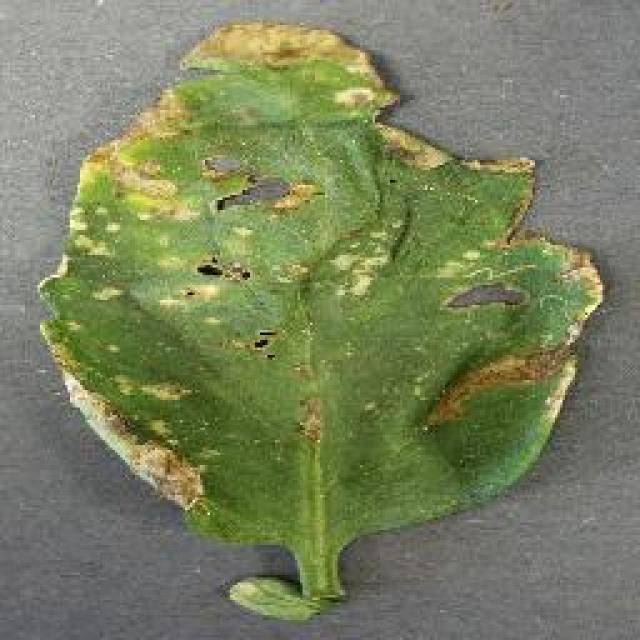Tomato bacterial spot leaf: (31, 8, 612, 560)
